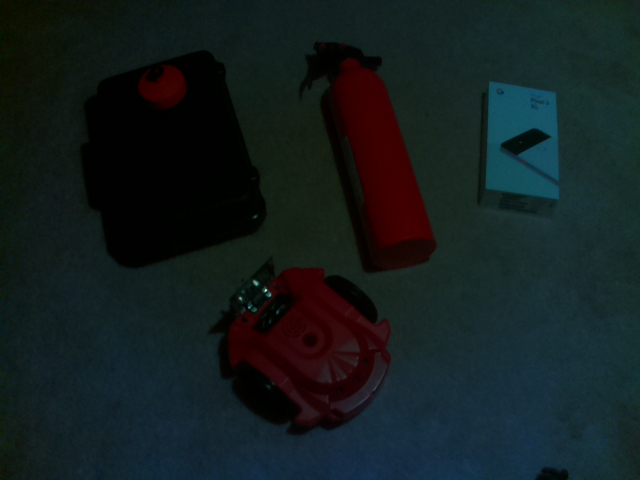chassis: (219, 255, 394, 432)
